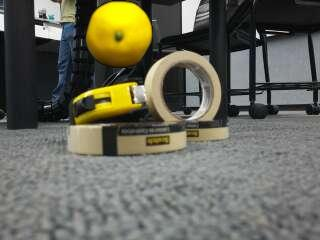lemon: (85, 3, 151, 69)
